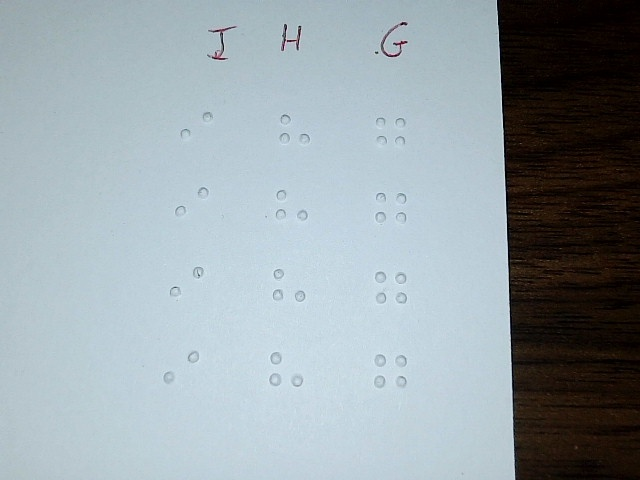G: (374, 106, 409, 162), (374, 181, 409, 237), (374, 262, 409, 318), (373, 344, 408, 400)
H: (278, 104, 313, 160), (274, 179, 309, 235), (272, 260, 307, 316), (269, 346, 304, 402)
I: (163, 340, 201, 398), (179, 100, 214, 156), (175, 176, 210, 232), (169, 255, 204, 311)
